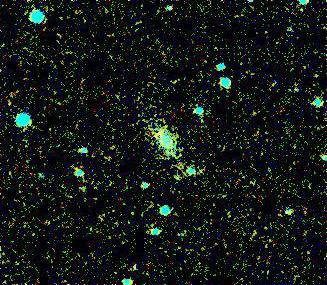star: (146, 117, 176, 147)
